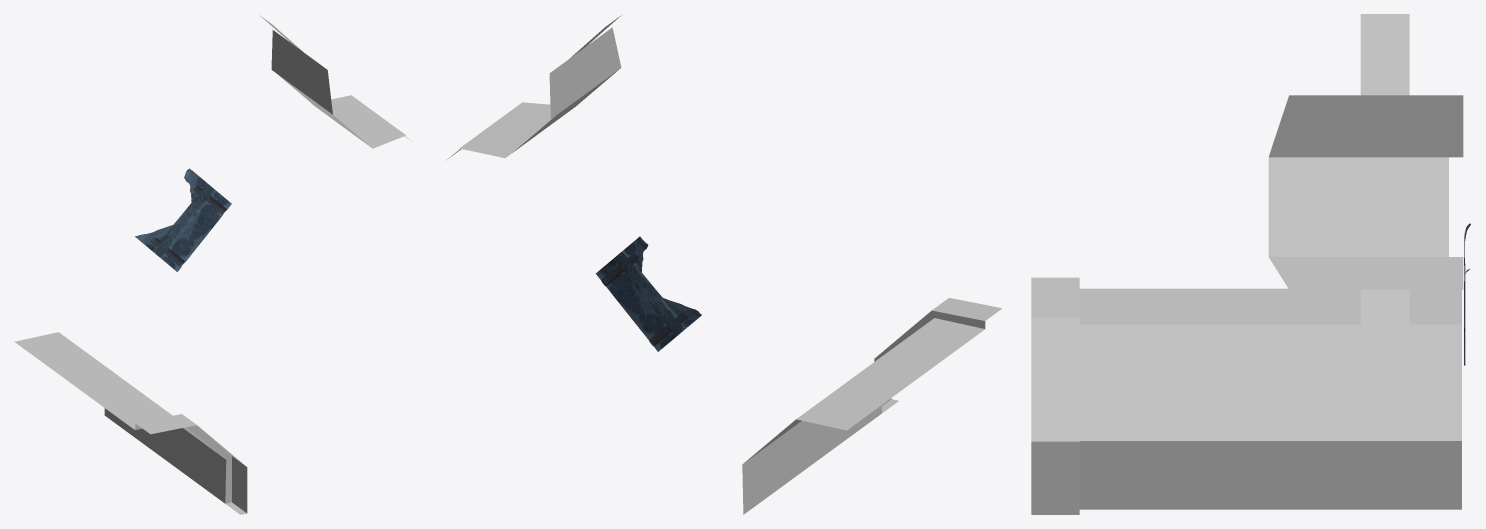
3 renders of one model, left to right at view 1: azimuth 30°, elevation 25°; view 2: azimuth 150°, elevation 25°; view 3: azimuth 270°, elevation 25°, orthographic. The views are drawn at different scales.
Visible parts, largest first — view 1: MeshData, MeshData002, MeshData006, MeshData005, MeshData011, MeshData001, MeshData016, MeshData010, MeshData013, MeshData003; view 2: MeshData, MeshData002, MeshData006, MeshData005, MeshData011, MeshData001, MeshData016, MeshData010, MeshData013, MeshData003; view 3: MeshData003, MeshData002, MeshData004, MeshData, MeshData006, MeshData005, MeshData007, MeshData008, MeshData001.
Boxes of the visible parts, x1,y1,x2,y2 form: MeshData: (14,332,172,429); MeshData002: (104,408,247,514); MeshData006: (271,30,332,114); MeshData005: (311,95,405,148); MeshData011: (165,220,204,268); MeshData001: (135,414,196,434); MeshData016: (193,184,231,224); MeshData010: (135,226,175,267); MeshData013: (169,178,207,226); MeshData003: (183,425,245,465); MeshData: (796,318,984,430); MeshData002: (742,359,898,514); MeshData006: (549,27,621,118); MeshData005: (459,102,553,157); MeshData011: (627,293,671,347); MeshData001: (931,297,1001,328); MeshData016: (595,251,639,297); MeshData010: (659,299,701,347); MeshData013: (623,244,666,299); MeshData003: (744,311,934,462); MeshData003: (1031,317,1461,441); MeshData002: (1031,441,1461,514); MeshData004: (1268,157,1448,256); MeshData: (1079,288,1461,324); MeshData006: (1269,95,1463,157); MeshData005: (1269,257,1463,289); MeshData007: (1360,14,1409,95); MeshData008: (1360,290,1409,364); MeshData001: (1031,277,1079,316).
Bounding box in the file's own units: 10298 × 10157 × 6735.
